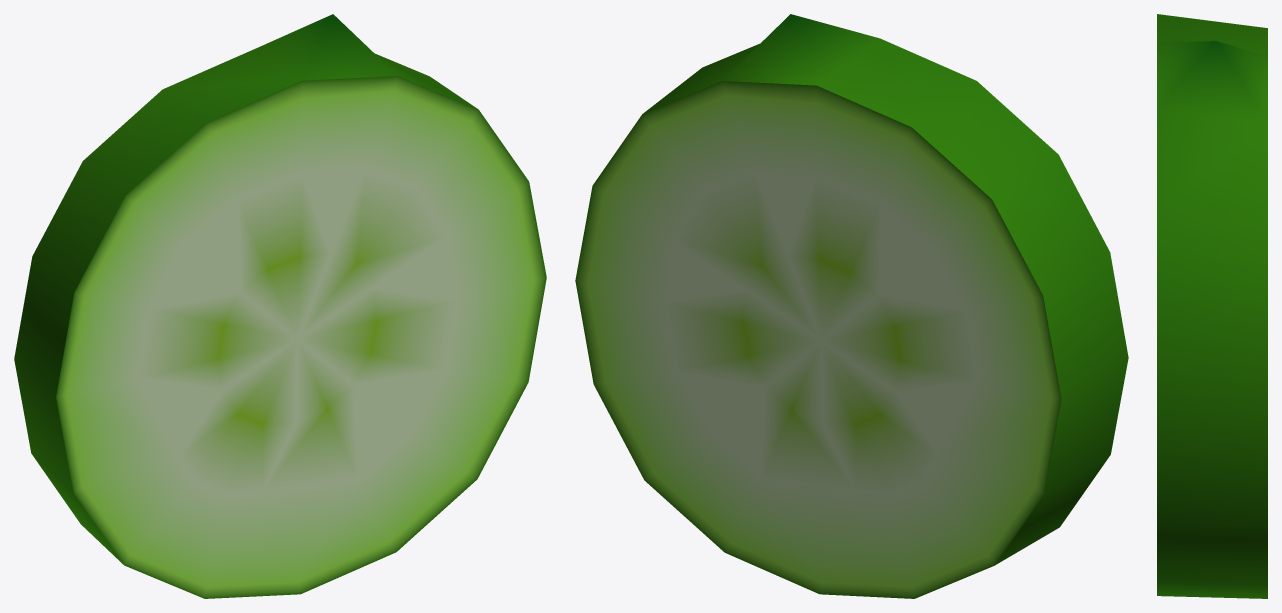
The model's file is Cucumber_Slice_14.fbx.
3 views of the same model, side by side, from view 1: azimuth 30°, elevation 25°; view 2: azimuth 150°, elevation 25°; view 3: azimuth 270°, elevation 25° (orthographic). The views are drawn at different scales.
Visible parts, largest first — view 1: Cucumber_Slice_14; view 2: Cucumber_Slice_14; view 3: Cucumber_Slice_14.
Part boxes in pixels (x1,y1,x2,y2): Cucumber_Slice_14: [14, 14, 546, 598]; Cucumber_Slice_14: [575, 14, 1128, 598]; Cucumber_Slice_14: [1157, 14, 1267, 598].
Size of the model in its own units: 4.53 by 4.77 by 0.8612.
